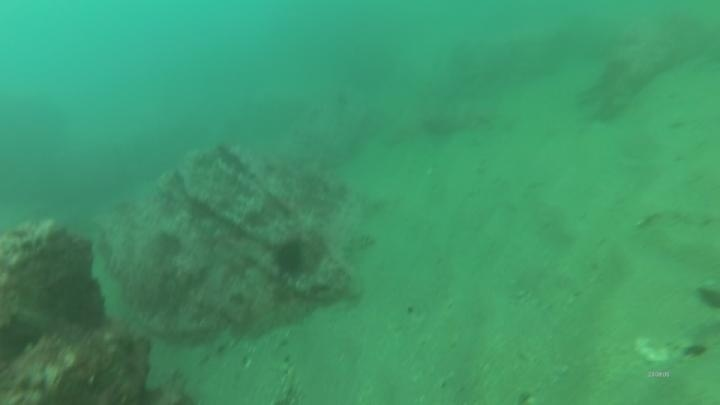echinus: (270, 237, 309, 279)
